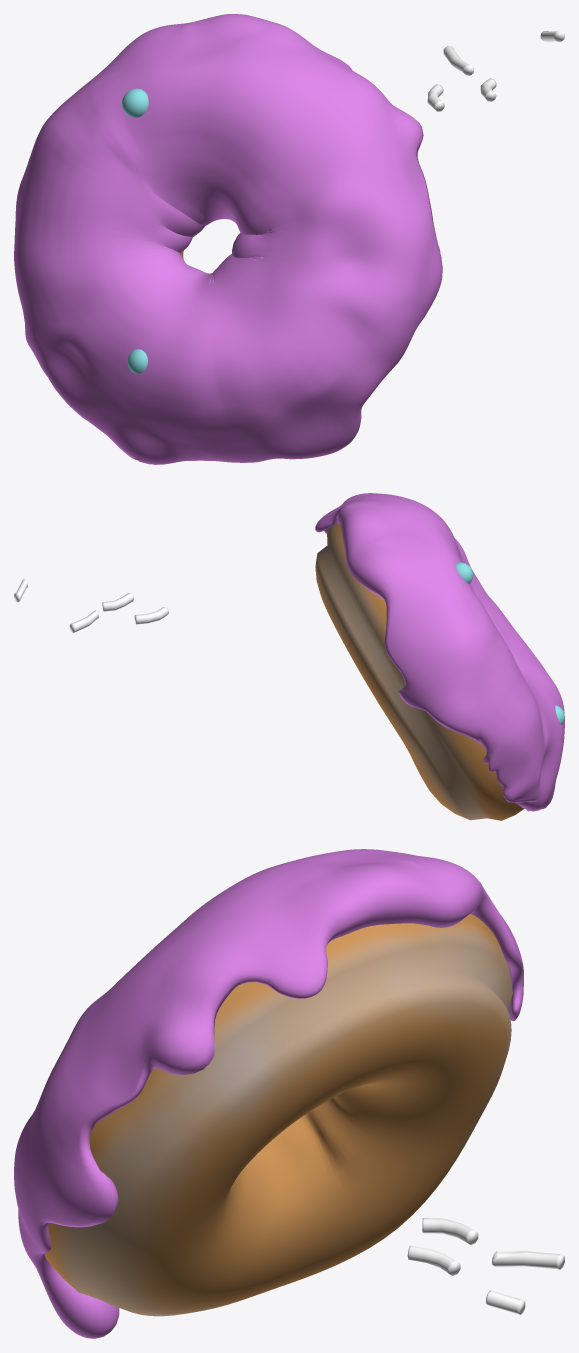
File: donut.glb
3 views of the same model, one above another, from view 1: azimuth 30°, elevation 25°; view 2: azimuth 150°, elevation 25°; view 3: azimuth 270°, elevation 25° (orthographic). The views are drawn at different scales.
Parts seen in each view (by area): view 1: icing, Sphere; view 2: icing, donut; view 3: donut, icing, Cylinder.001, Cylinder, Cylinder.003, Cylinder.002.
Part boxes in pixels (left/top/right/bottom): icing: left=14, top=14, right=442, bottom=464; Sphere: left=122, top=88, right=148, bottom=117; icing: left=315, top=493, right=564, bottom=811; donut: left=315, top=523, right=524, bottom=820; donut: left=44, top=914, right=512, bottom=1316; icing: left=14, top=849, right=523, bottom=1338; Cylinder.001: left=492, top=1251, right=564, bottom=1269; Cylinder: left=422, top=1218, right=478, bottom=1244; Cylinder.003: left=407, top=1245, right=460, bottom=1275; Cylinder.002: left=486, top=1290, right=525, bottom=1314.
Bounding box in the file's own units: 0.1724 × 0.1038 × 0.1062.
Materials: 5 (1 with a texture image).
